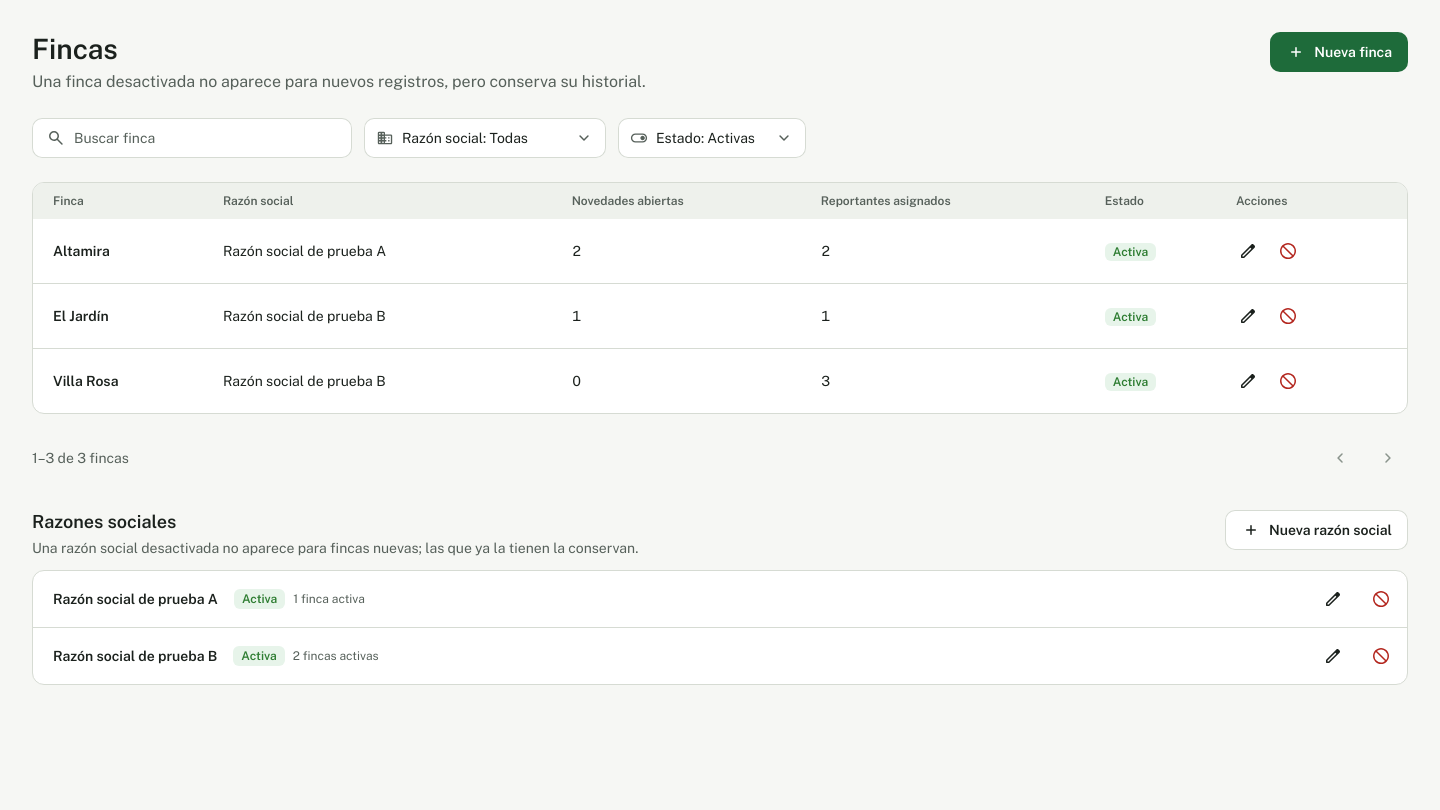
Test: Pantalla 30 · Fincas (RF-04 / CU-04) › RF-04: la búsqueda no distingue mayúsculas ni tildes
Expected: the table is shown, [33,183,1407,413]
In the search field labelled "Buscar finca": (206,138) [74,128,338,148], type "JARDIN"
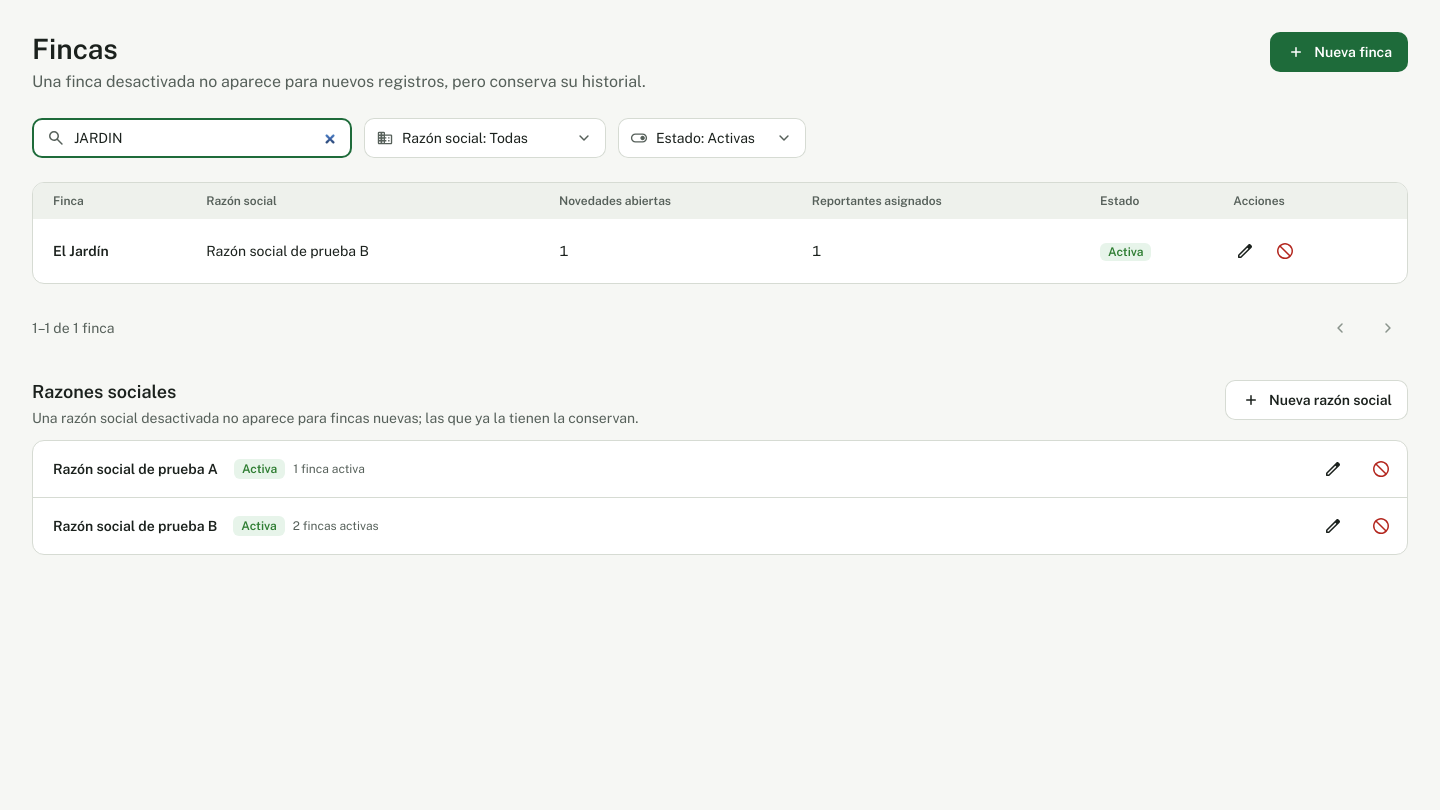
Expected: the text "1–1 de 1 finca" is shown, [32,318,114,338]
